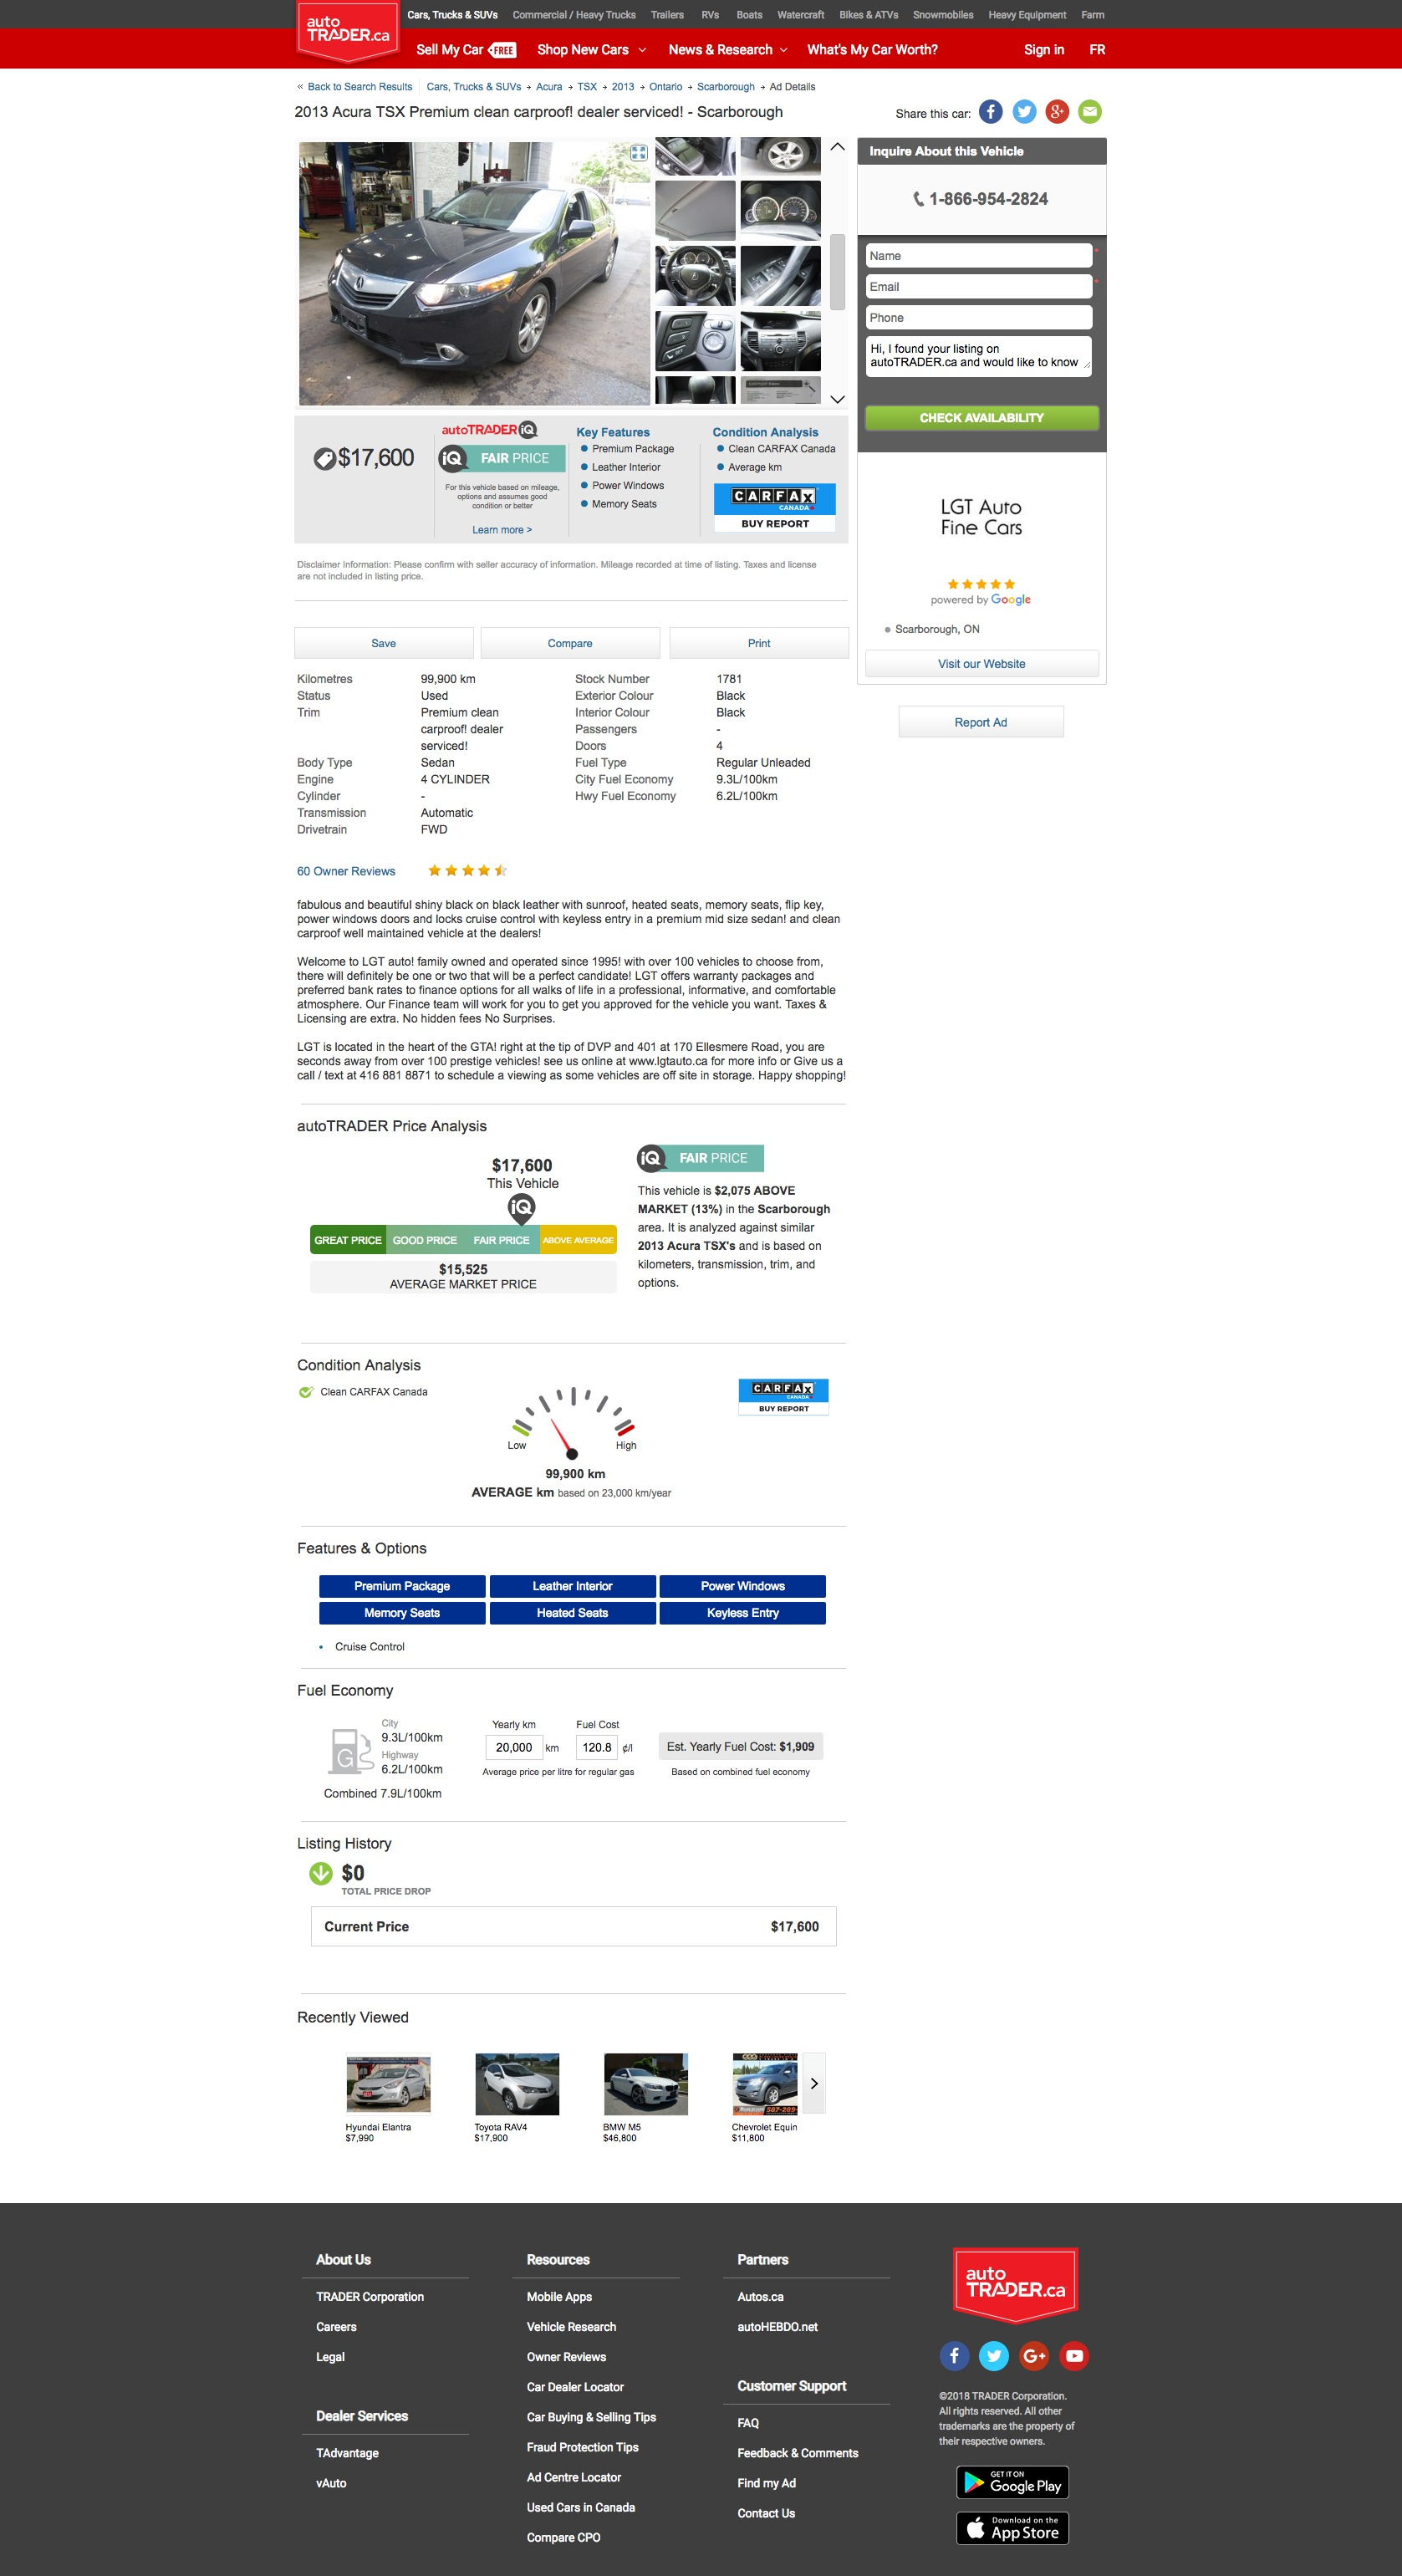car: (830, 394, 846, 406)
